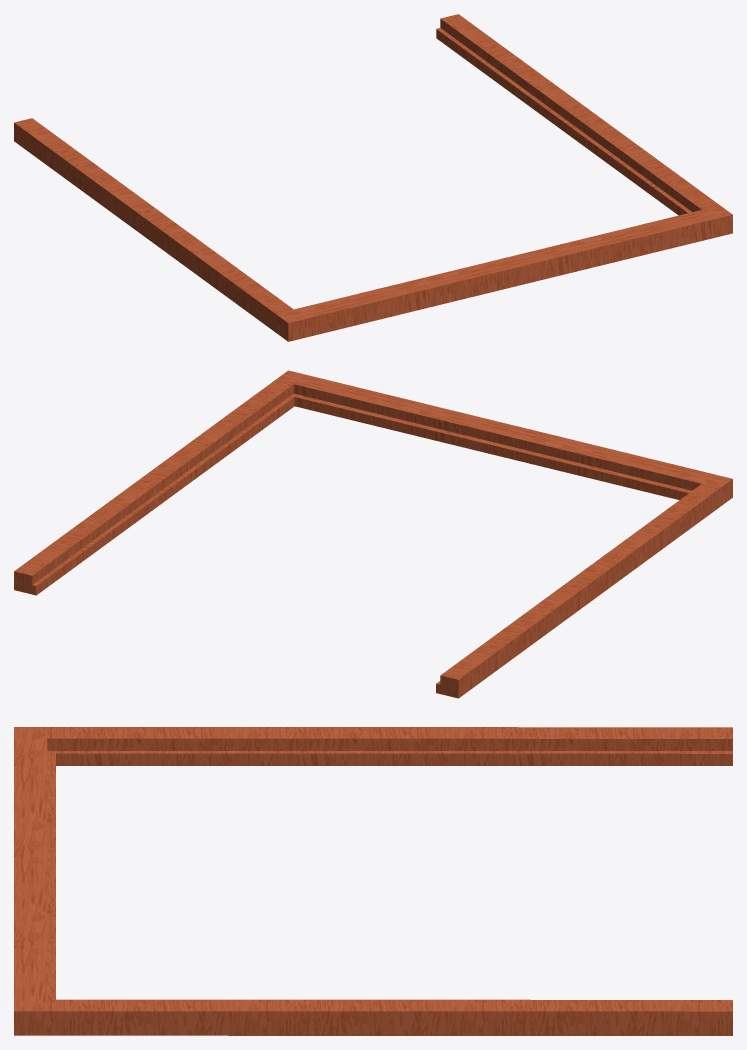
File: DoorwayDouble_1.obj
The picture shows the model from 3 angles, top to bottom: view 1: azimuth 30°, elevation 25°; view 2: azimuth 150°, elevation 25°; view 3: azimuth 270°, elevation 25°; orthographic projection. The views are drawn at different scales.
Visible parts, largest first — view 1: DoorwayDouble_1; view 2: DoorwayDouble_1; view 3: DoorwayDouble_1.
Part boxes in pixels (x1,y1,x2,y2): DoorwayDouble_1: (14, 14, 732, 341); DoorwayDouble_1: (14, 370, 732, 698); DoorwayDouble_1: (14, 727, 732, 1035).
Bounding box in the file's own units: 1.99 × 0.0807 × 2.13.
1 material, 1 textured.
